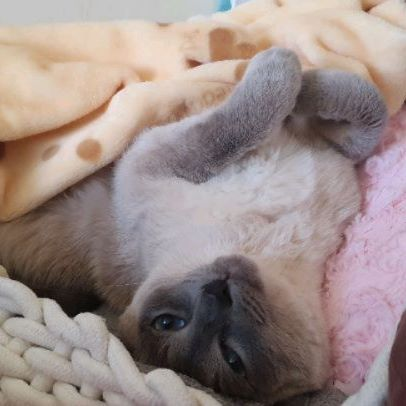cat: (124, 254, 313, 402)
